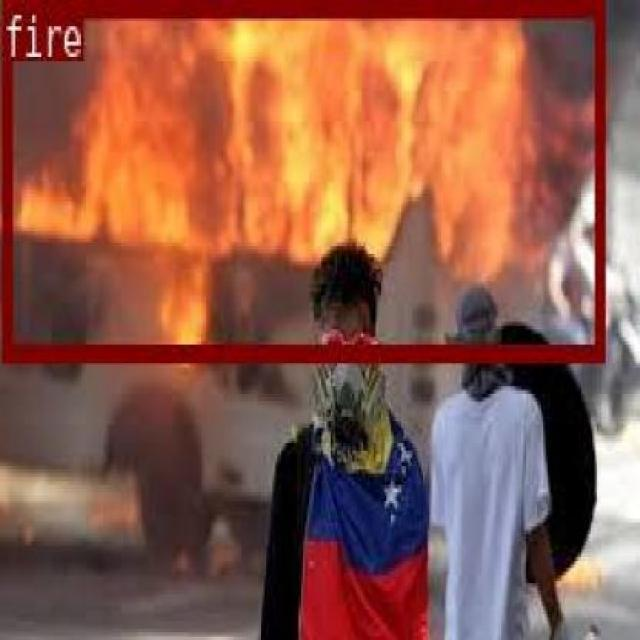Fire: (302, 180, 600, 360)
